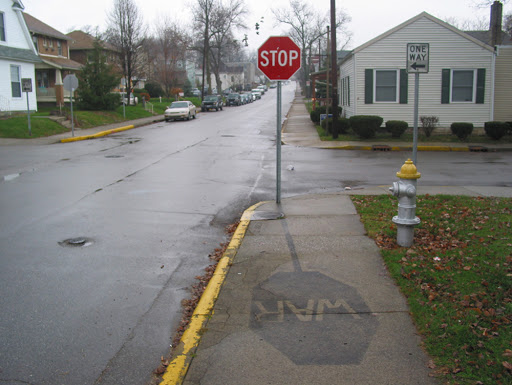stop: (255, 35, 303, 83)
